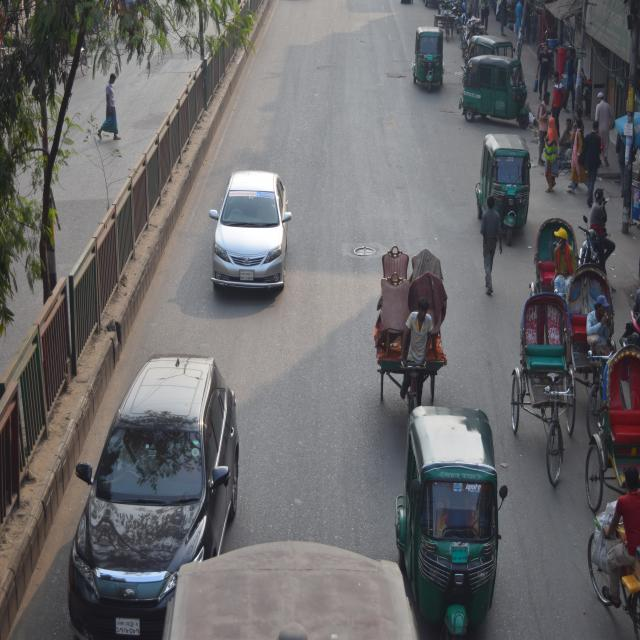bus: (154, 537, 410, 640)
car: (62, 345, 244, 640), (208, 162, 293, 299)
